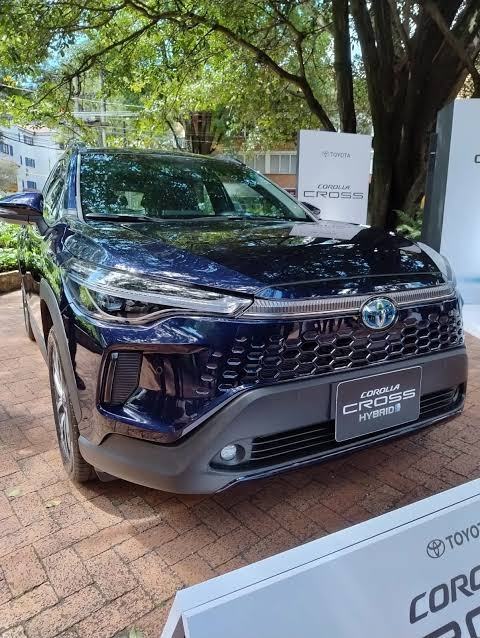car: (12, 146, 476, 480), (22, 143, 459, 357), (43, 158, 419, 304), (1, 126, 64, 216)
